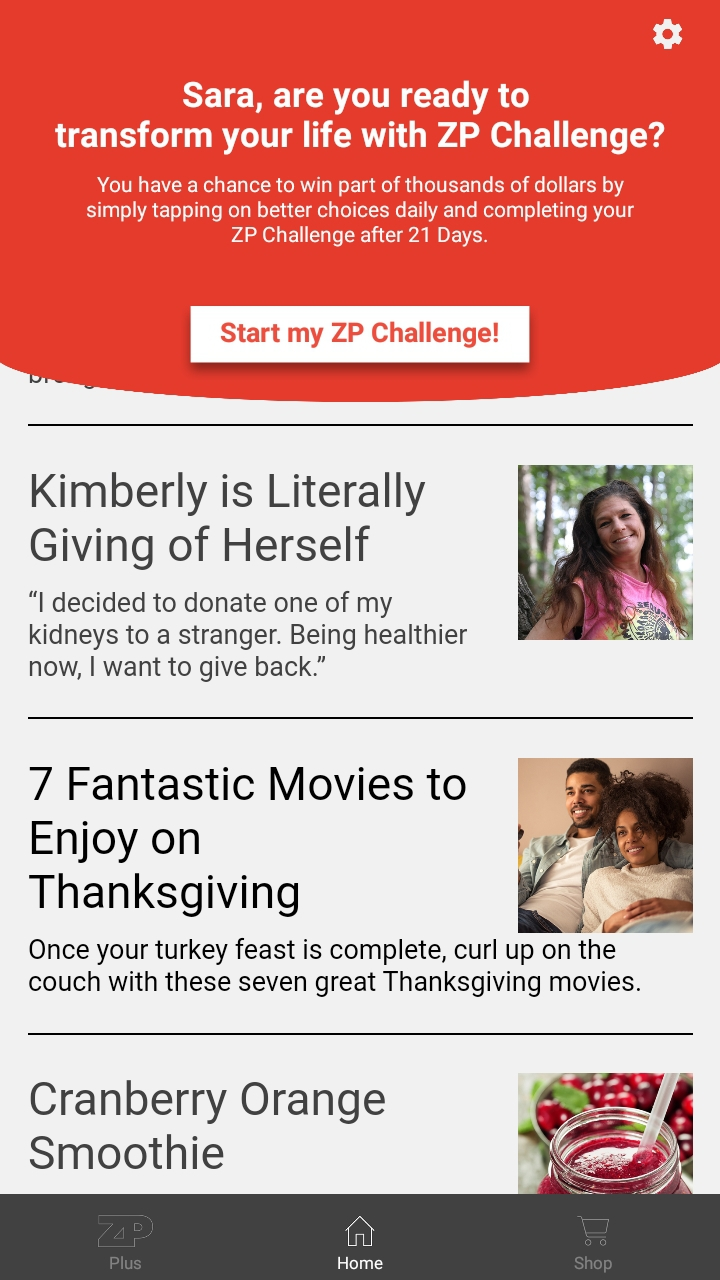Icon: (345, 1216, 376, 1247), (653, 19, 683, 51), (578, 1216, 610, 1245)
Image: (518, 465, 693, 641), (518, 758, 693, 933), (519, 1073, 693, 1194), (98, 1214, 154, 1247)
Text: (29, 766, 467, 917), (55, 82, 665, 156), (29, 591, 468, 683), (87, 176, 634, 248), (31, 472, 426, 571), (30, 938, 641, 998), (30, 1080, 385, 1170), (338, 1256, 384, 1270), (575, 1256, 612, 1273), (109, 1256, 142, 1270)
TextButton: (190, 306, 530, 364)
